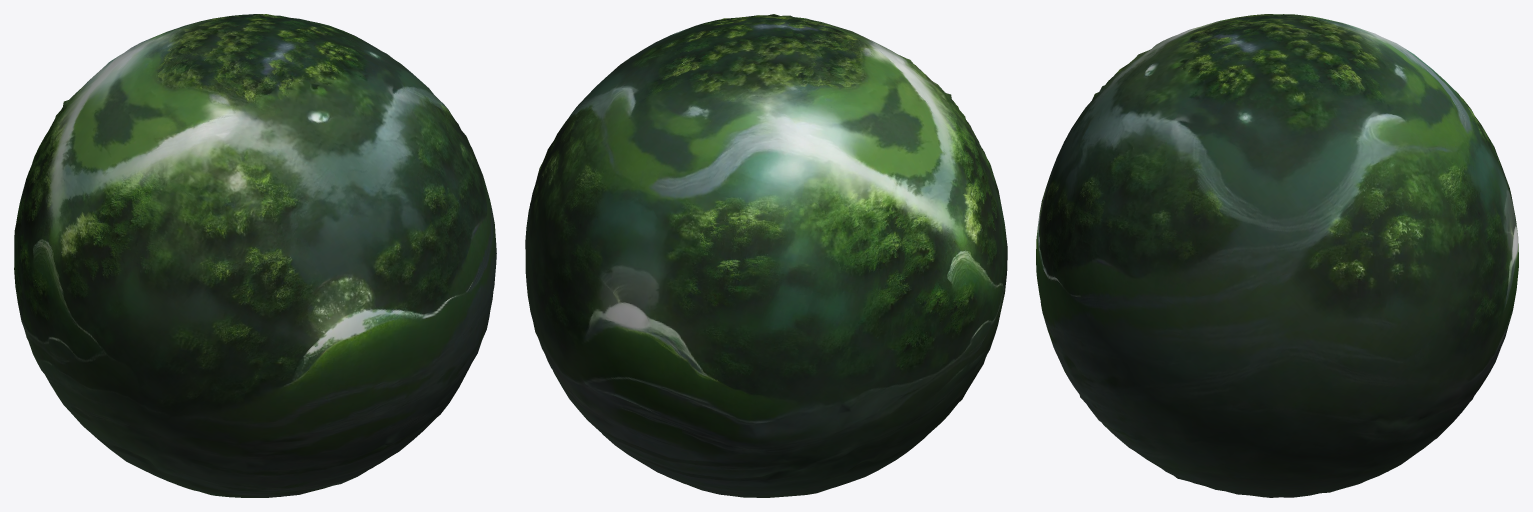
File: jungle_planet_2.glb
The picture shows the model from 3 angles, left to right: view 1: azimuth 30°, elevation 25°; view 2: azimuth 150°, elevation 25°; view 3: azimuth 270°, elevation 25°; orthographic projection.
Parts seen in each view (by area): view 1: Mesh_0.033; view 2: Mesh_0.033; view 3: Mesh_0.033.
Boxes of the visible parts, <box> form: Mesh_0.033: <box>14,14,496,497</box>; Mesh_0.033: <box>525,14,1007,497</box>; Mesh_0.033: <box>1036,14,1518,497</box>.
Size of the model in its own units: 2 by 2 by 2.
1 material, 1 textured.
